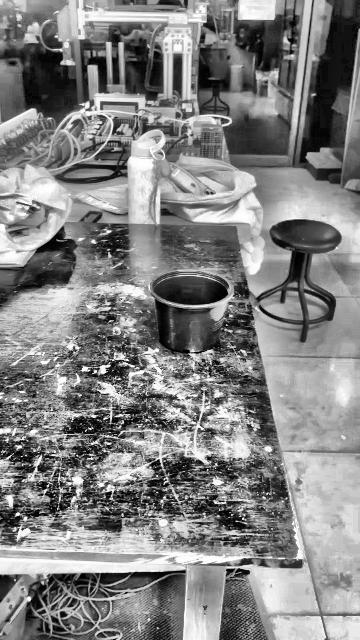pot: (149, 270, 229, 353)
